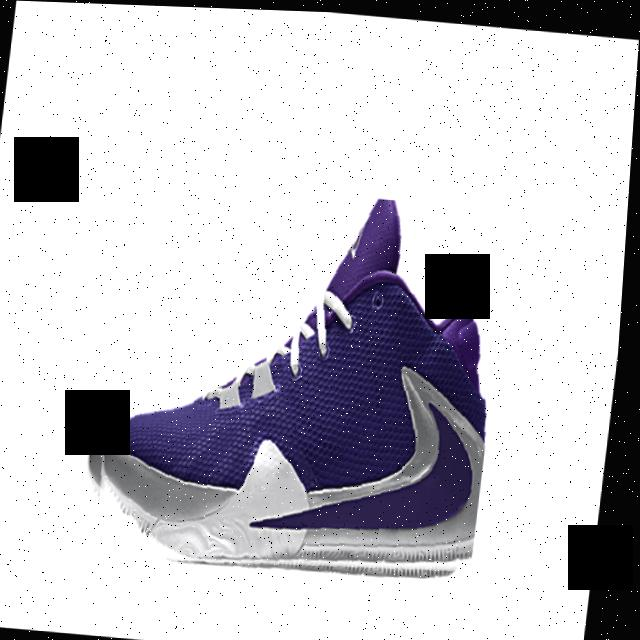shoe: (83, 174, 517, 587)
